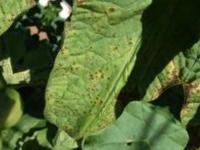Tomato Septoria leaf spot: (2, 0, 187, 150)
